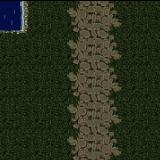Interaction: (14, 0, 42, 48), (0, 26, 14, 48)
Slow: (0, 0, 21, 29)
